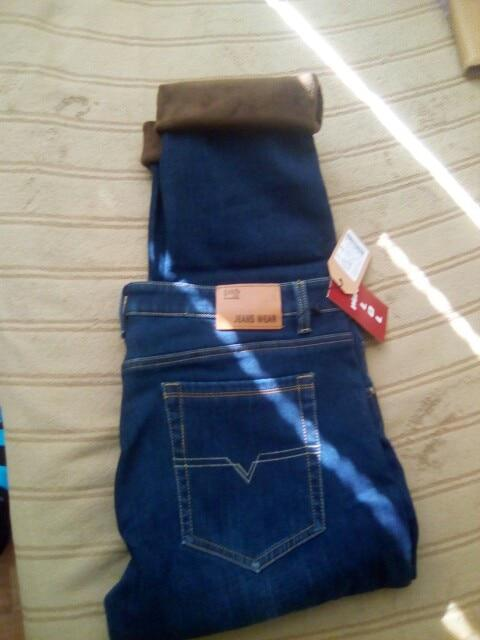jeans: (116, 265, 378, 640)
